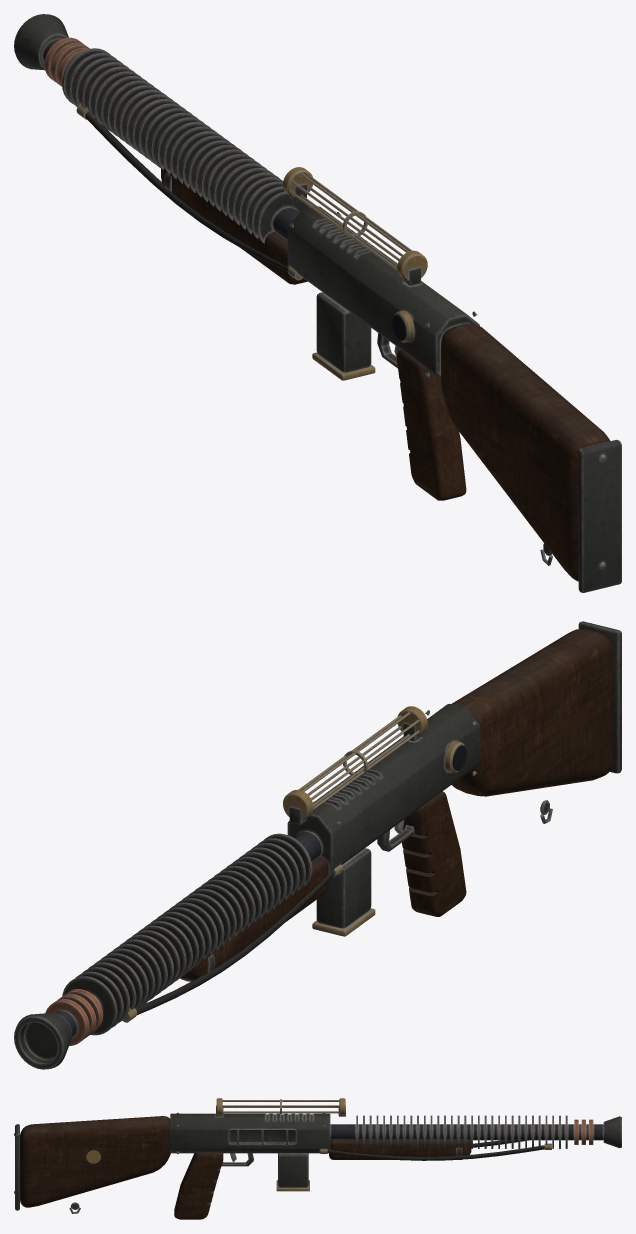
Rendered from footman_impulse_rifle.glb.
3 renders of one model, top to bottom at view 1: azimuth 30°, elevation 25°; view 2: azimuth 150°, elevation 25°; view 3: azimuth 270°, elevation 25°, orthographic. The views are drawn at different scales.
Parts seen in each view (by area): view 1: footman_impulse_rifle; view 2: footman_impulse_rifle; view 3: footman_impulse_rifle.
Boxes of the visible parts, left/top/right/bottom form: footman_impulse_rifle: left=14, top=14, right=621, bottom=592; footman_impulse_rifle: left=14, top=621, right=621, bottom=1069; footman_impulse_rifle: left=14, top=1098, right=621, bottom=1219.
Bounding box in the file's own units: 0.0583 × 0.2115 × 0.9896.
1 material, 1 textured.
